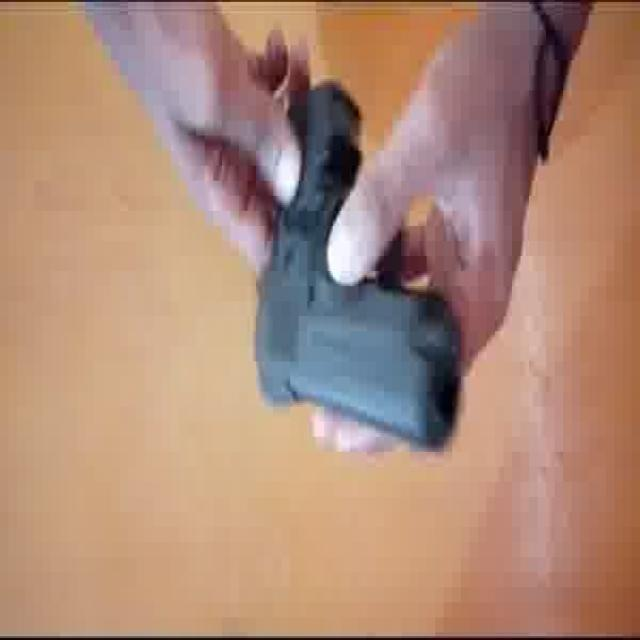weapon: (253, 46, 462, 451)
